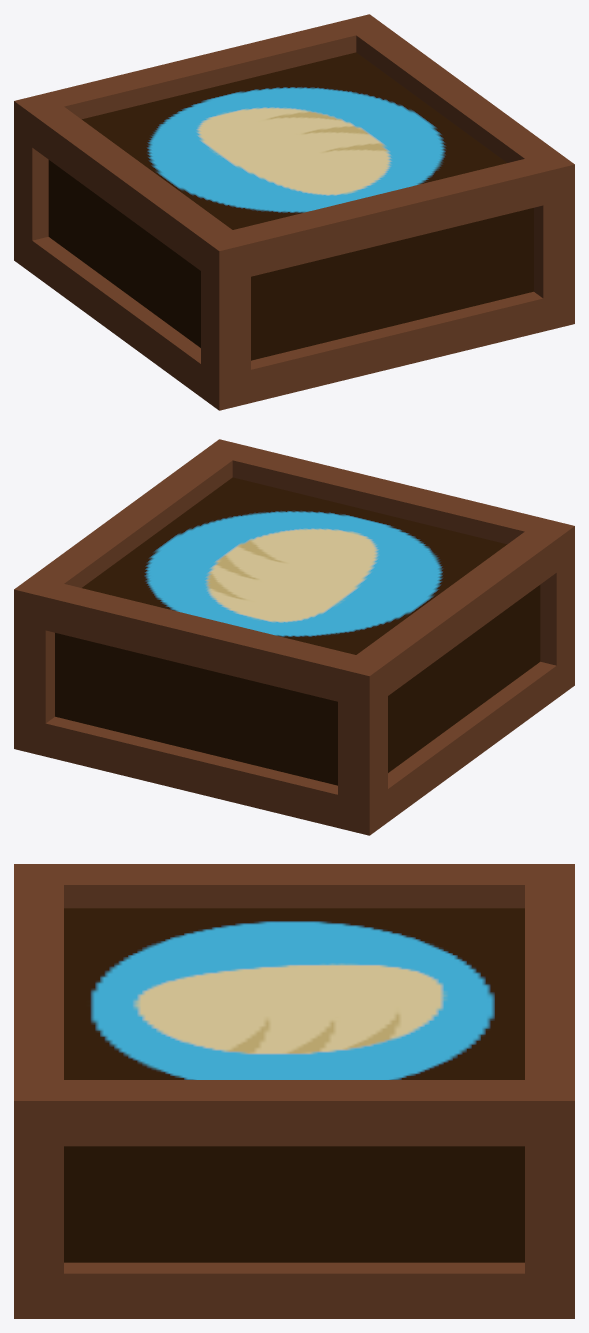
File: CajaPan.fbx
3 views of the same model, one above another, from view 1: azimuth 30°, elevation 25°; view 2: azimuth 150°, elevation 25°; view 3: azimuth 270°, elevation 25° (orthographic). The views are drawn at different scales.
Parts seen in each view (by area): view 1: CajaObjetos.007; view 2: CajaObjetos.007; view 3: CajaObjetos.007.
Boxes of the visible parts, box(x1,y1,x2,y2) form: CajaObjetos.007: box(14, 14, 574, 410); CajaObjetos.007: box(14, 439, 574, 835); CajaObjetos.007: box(14, 864, 574, 1318).
Bounding box in the file's own units: 350 × 150 × 350.
3 materials, 2 textured.
